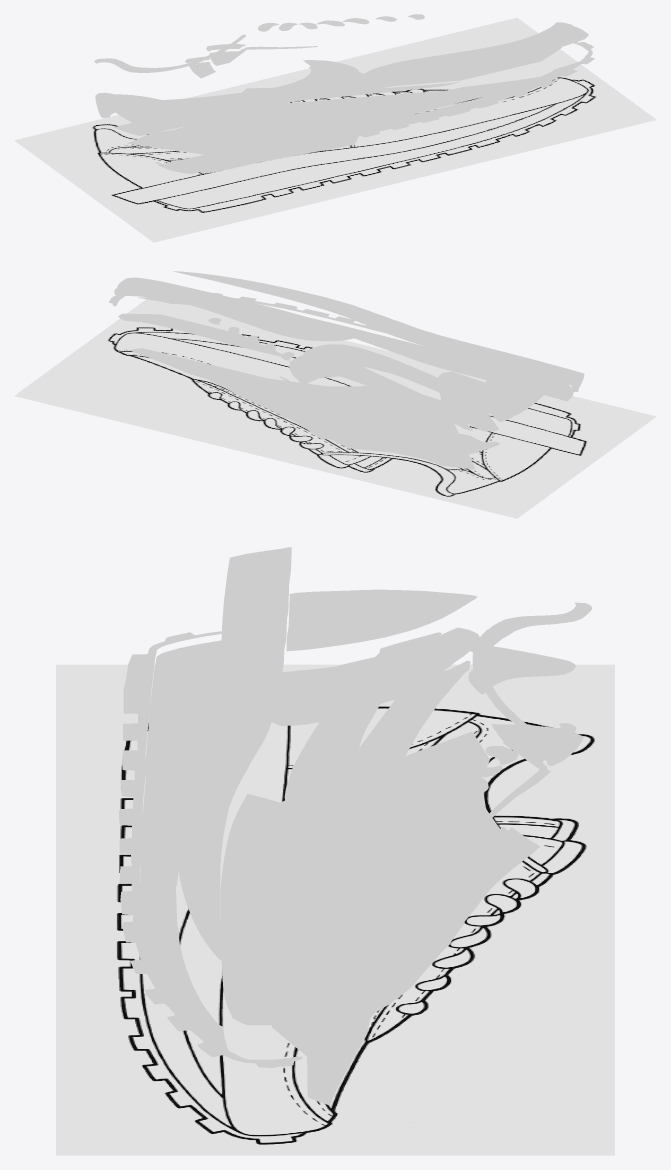
File: Nike Sacai LD Waffle.FBX
3 renders of one model, top to bottom at view 1: azimuth 30°, elevation 25°; view 2: azimuth 150°, elevation 25°; view 3: azimuth 270°, elevation 25°, orthographic. The views are drawn at different scales.
Parts seen in each view (by area): view 1: Plane001, Line006, Line001, Line002, Line004, Line003, Line009, Line007, Line005, Line012, Line020, Line008 (+2 smaller); view 2: Plane001, Line006, Line001, Line004, Line002, Line009, Line011, Line007, Line014, Line005, Line008, Line003 (+4 smaller); view 3: Plane001, Line006, Line001, Line004, Line002, Line009, Line003, Line011, Line007, Line014, Line008, Line005 (+5 smaller).
Part boxes in pixels (left/top/right/bottom): Plane001: left=14, top=17, right=656, bottom=242; Line006: left=127, top=77, right=539, bottom=161; Line001: left=114, top=36, right=554, bottom=135; Line002: left=158, top=62, right=578, bottom=173; Line004: left=352, top=22, right=588, bottom=92; Line003: left=154, top=42, right=594, bottom=173; Line009: left=163, top=60, right=360, bottom=107; Line007: left=99, top=93, right=190, bottom=122; Line005: left=394, top=47, right=562, bottom=86; Line012: left=94, top=34, right=246, bottom=72; Line020: left=258, top=14, right=424, bottom=31; Line008: left=110, top=106, right=255, bottom=129; Plane001: left=14, top=299, right=656, bottom=518; Line006: left=128, top=348, right=475, bottom=469; Line001: left=173, top=271, right=584, bottom=387; Line004: left=114, top=277, right=362, bottom=341; Line002: left=138, top=297, right=570, bottom=401; Line009: left=302, top=344, right=487, bottom=416; Line011: left=289, top=355, right=472, bottom=430; Line007: left=481, top=373, right=549, bottom=421; Line014: left=192, top=365, right=348, bottom=439; Line005: left=118, top=313, right=281, bottom=356; Line008: left=438, top=371, right=499, bottom=431; Line003: left=109, top=292, right=578, bottom=398; Plane001: left=56, top=664, right=614, bottom=1155; Line006: left=280, top=731, right=499, bottom=1105; Line001: left=176, top=547, right=291, bottom=960; Line004: left=220, top=793, right=328, bottom=1025; Line002: left=140, top=640, right=228, bottom=1050; Line009: left=284, top=632, right=441, bottom=830; Line003: left=119, top=631, right=302, bottom=1067; Line011: left=315, top=660, right=470, bottom=863; Line007: left=286, top=589, right=477, bottom=651; Line014: left=366, top=827, right=540, bottom=1015; Line008: left=272, top=627, right=479, bottom=725; Line005: left=272, top=892, right=334, bottom=1057.
Size of the model in its own units: 266 by 37.68 by 128.
